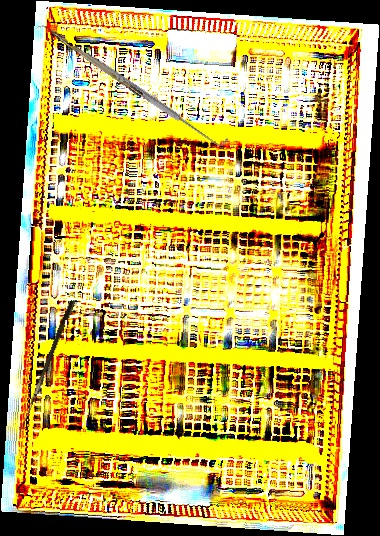Chopper: (35, 20, 144, 103)
Hook Surgical: (80, 45, 231, 153), (18, 298, 76, 438)
